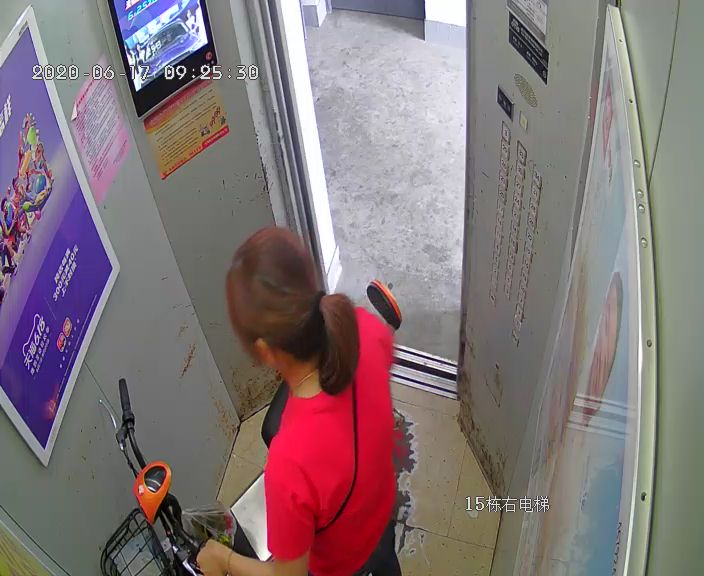Electric-bicycle: (96, 278, 400, 570)
